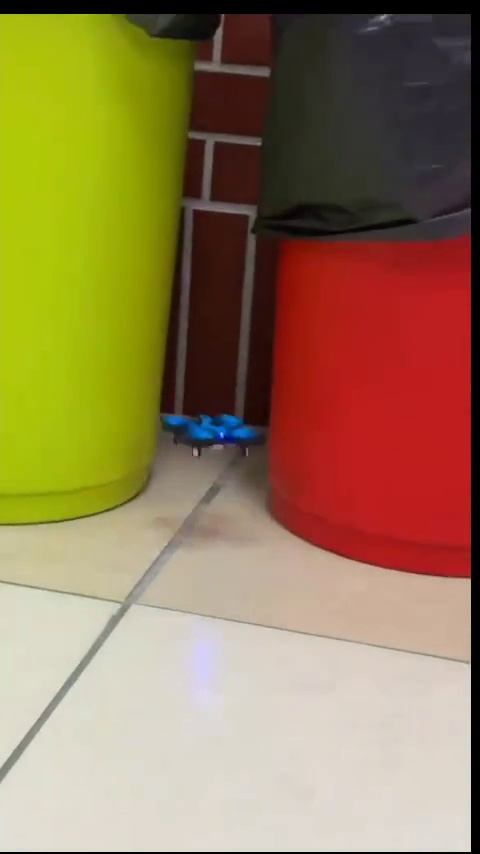drone: (163, 411, 260, 453)
